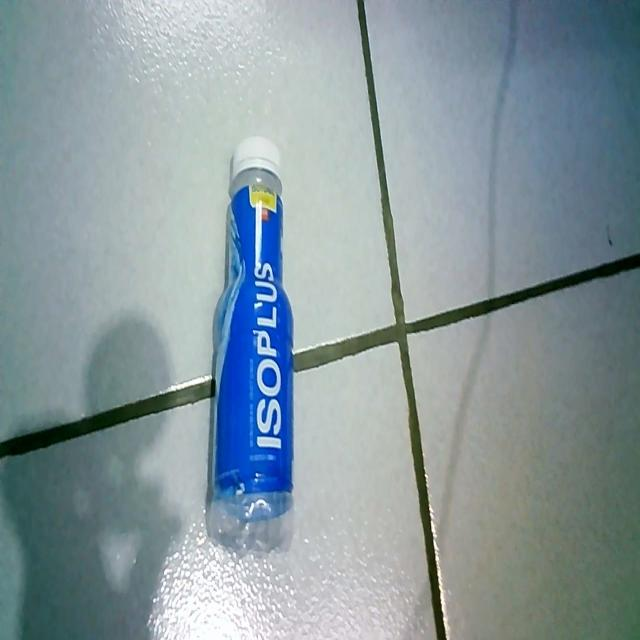botol: (210, 132, 308, 524)
